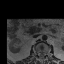CCS_normal: (40, 50, 43, 59)
LFS_normal: (45, 50, 47, 57)
LLS_normal: (43, 50, 45, 58)
RFS_normal: (36, 50, 38, 57)
RLS_normal: (38, 50, 40, 59)
